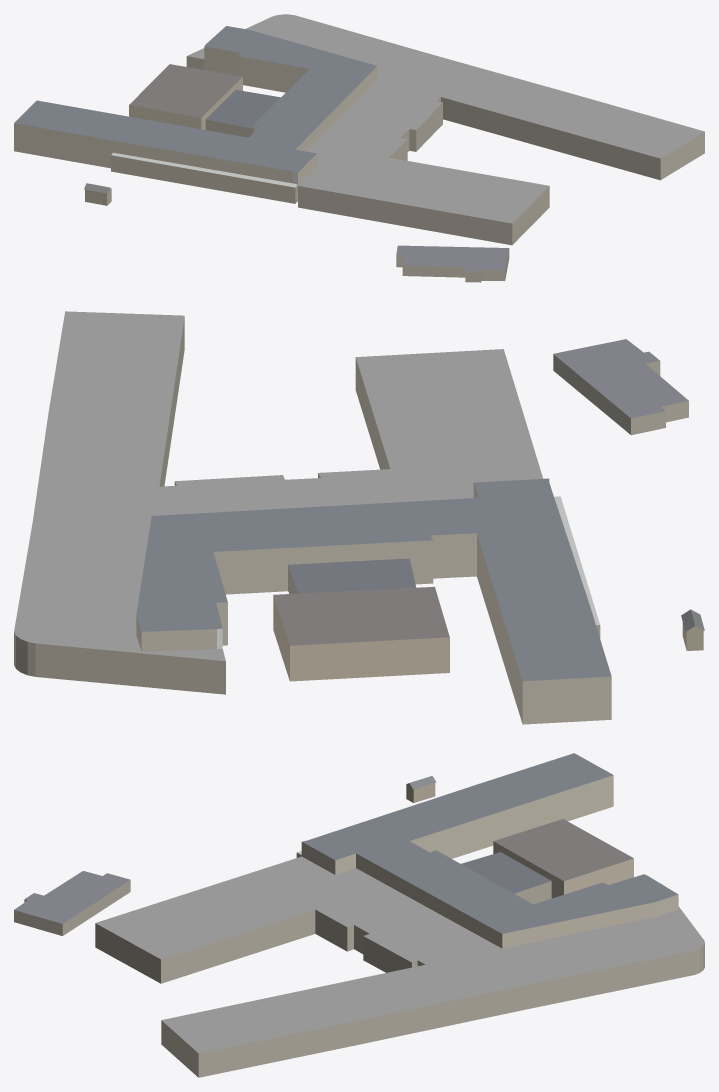
3 views of the same model, one above another, from view 1: azimuth 30°, elevation 25°; view 2: azimuth 150°, elevation 25°; view 3: azimuth 270°, elevation 25° (orthographic). The views are drawn at different scales.
Parts seen in each view (by area): view 1: tuile; view 2: tuile; view 3: tuile.
Boxes of the visible parts, x1=… form: tuile: x1=14, y1=14, x2=704, y2=282; tuile: x1=14, y1=311, x2=704, y2=724; tuile: x1=14, y1=753, x2=704, y2=1077.
Bounding box in the file's own units: 243 × 15.5 × 248.
